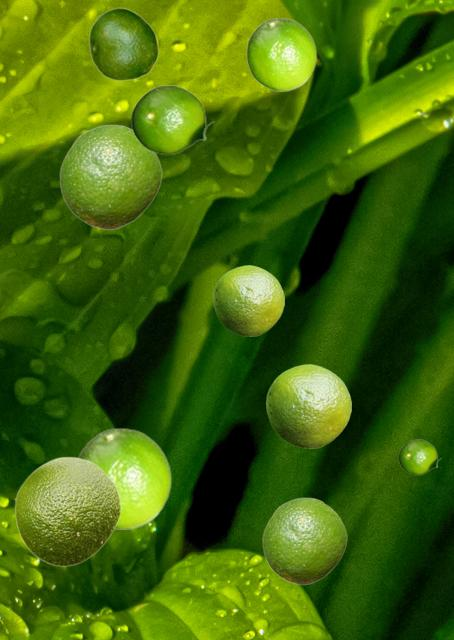calamansi: (14, 456, 120, 566), (59, 124, 161, 229), (76, 427, 171, 528), (262, 497, 346, 584), (266, 364, 350, 447), (130, 85, 214, 154), (88, 7, 158, 80), (246, 17, 316, 90), (213, 265, 283, 335), (398, 439, 441, 474)
